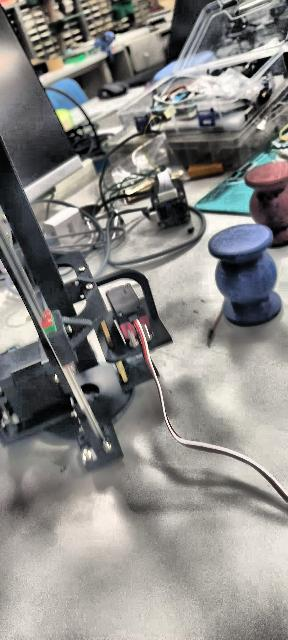blue: (208, 222, 282, 326)
red: (241, 160, 288, 253)
